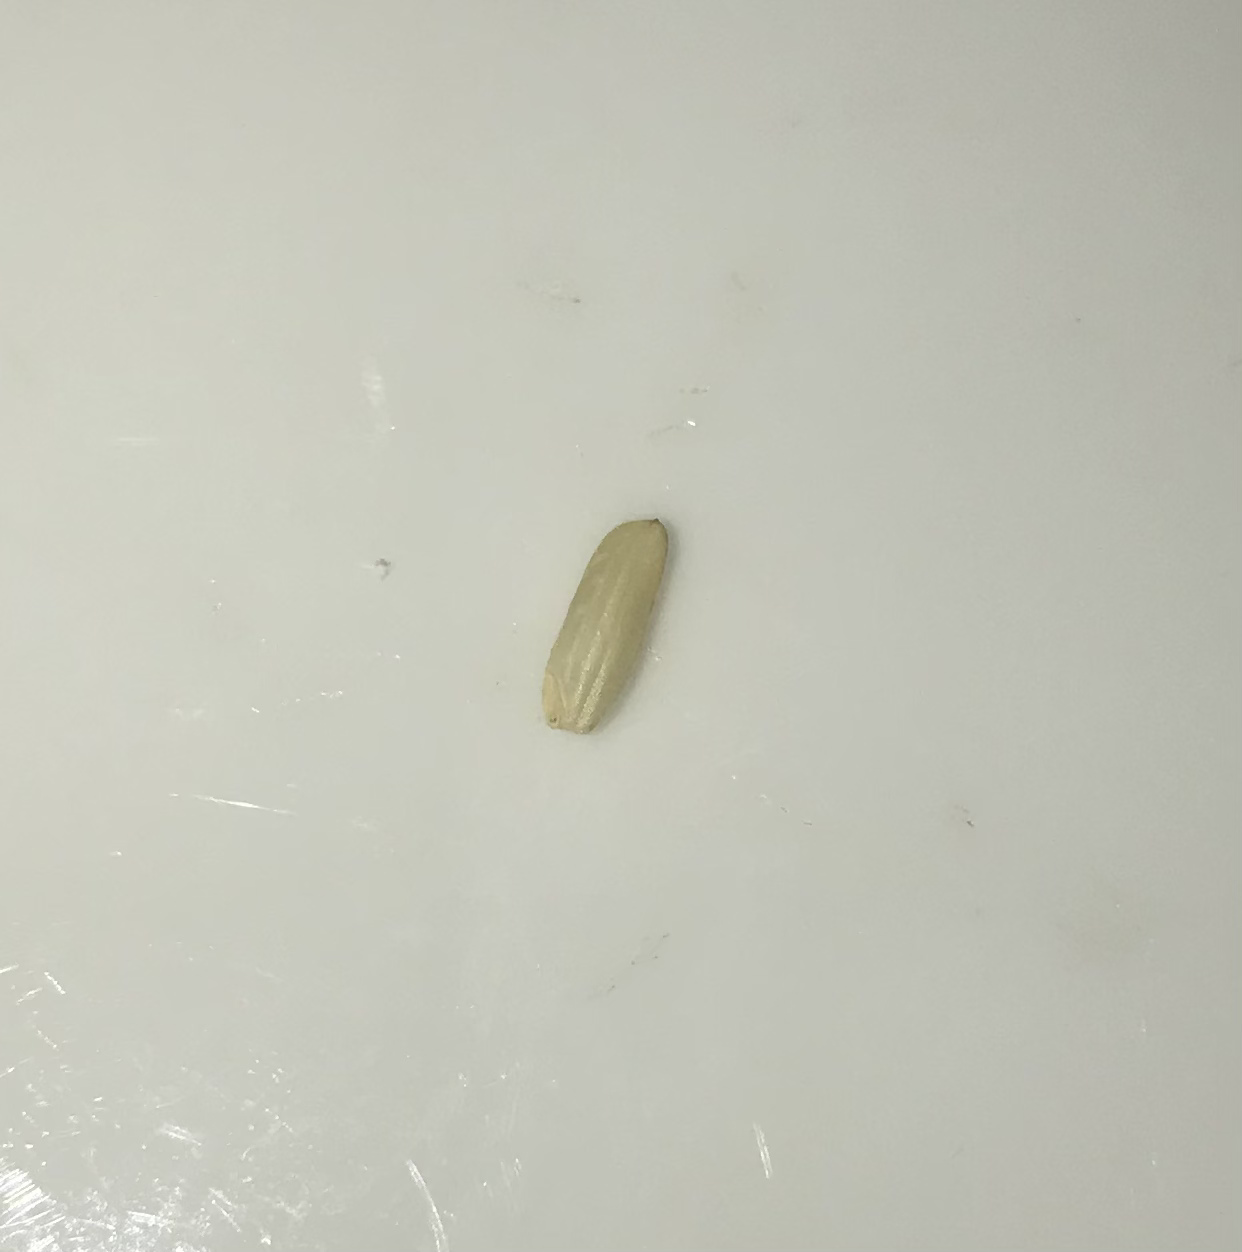Gao Lut Bac: (547, 501, 674, 757)
